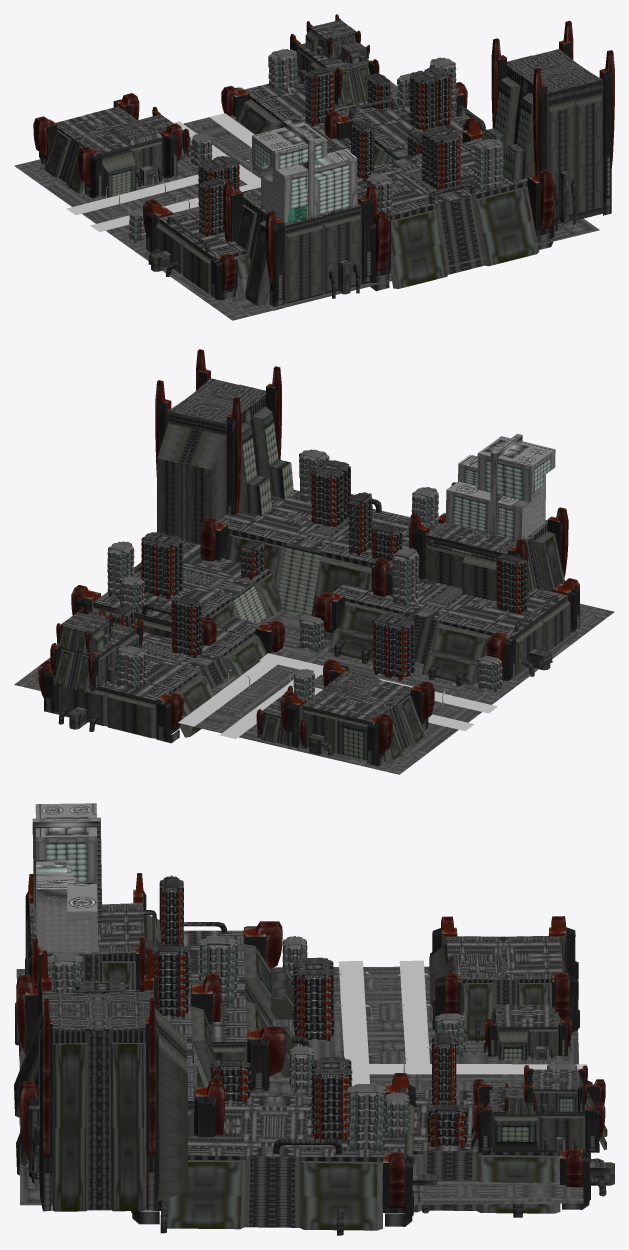
The model's file is Map 2C.fbx.
3 renders of one model, top to bottom at view 1: azimuth 30°, elevation 25°; view 2: azimuth 150°, elevation 25°; view 3: azimuth 270°, elevation 25°, orthographic. The views are drawn at different scales.
Visible parts, largest first — view 1: Cube.001, Cube.002; view 2: Cube.001, Cube.002, Cube.003; view 3: Cube.001, Cube.002, Cube.003.
Boxes of the visible parts, left/top/right/bottom form: Cube.001: left=14, top=14, right=614, bottom=320; Cube.002: left=33, top=93, right=190, bottom=198; Cube.001: left=14, top=349, right=614, bottom=774; Cube.002: left=256, top=659, right=434, bottom=766; Cube.003: left=240, top=539, right=264, bottom=579; Cube.001: left=14, top=803, right=614, bottom=1235; Cube.002: left=429, top=916, right=579, bottom=1060; Cube.003: left=210, top=1059, right=251, bottom=1106.
Bounding box in the file's own units: 16725 × 7432 × 16433.
